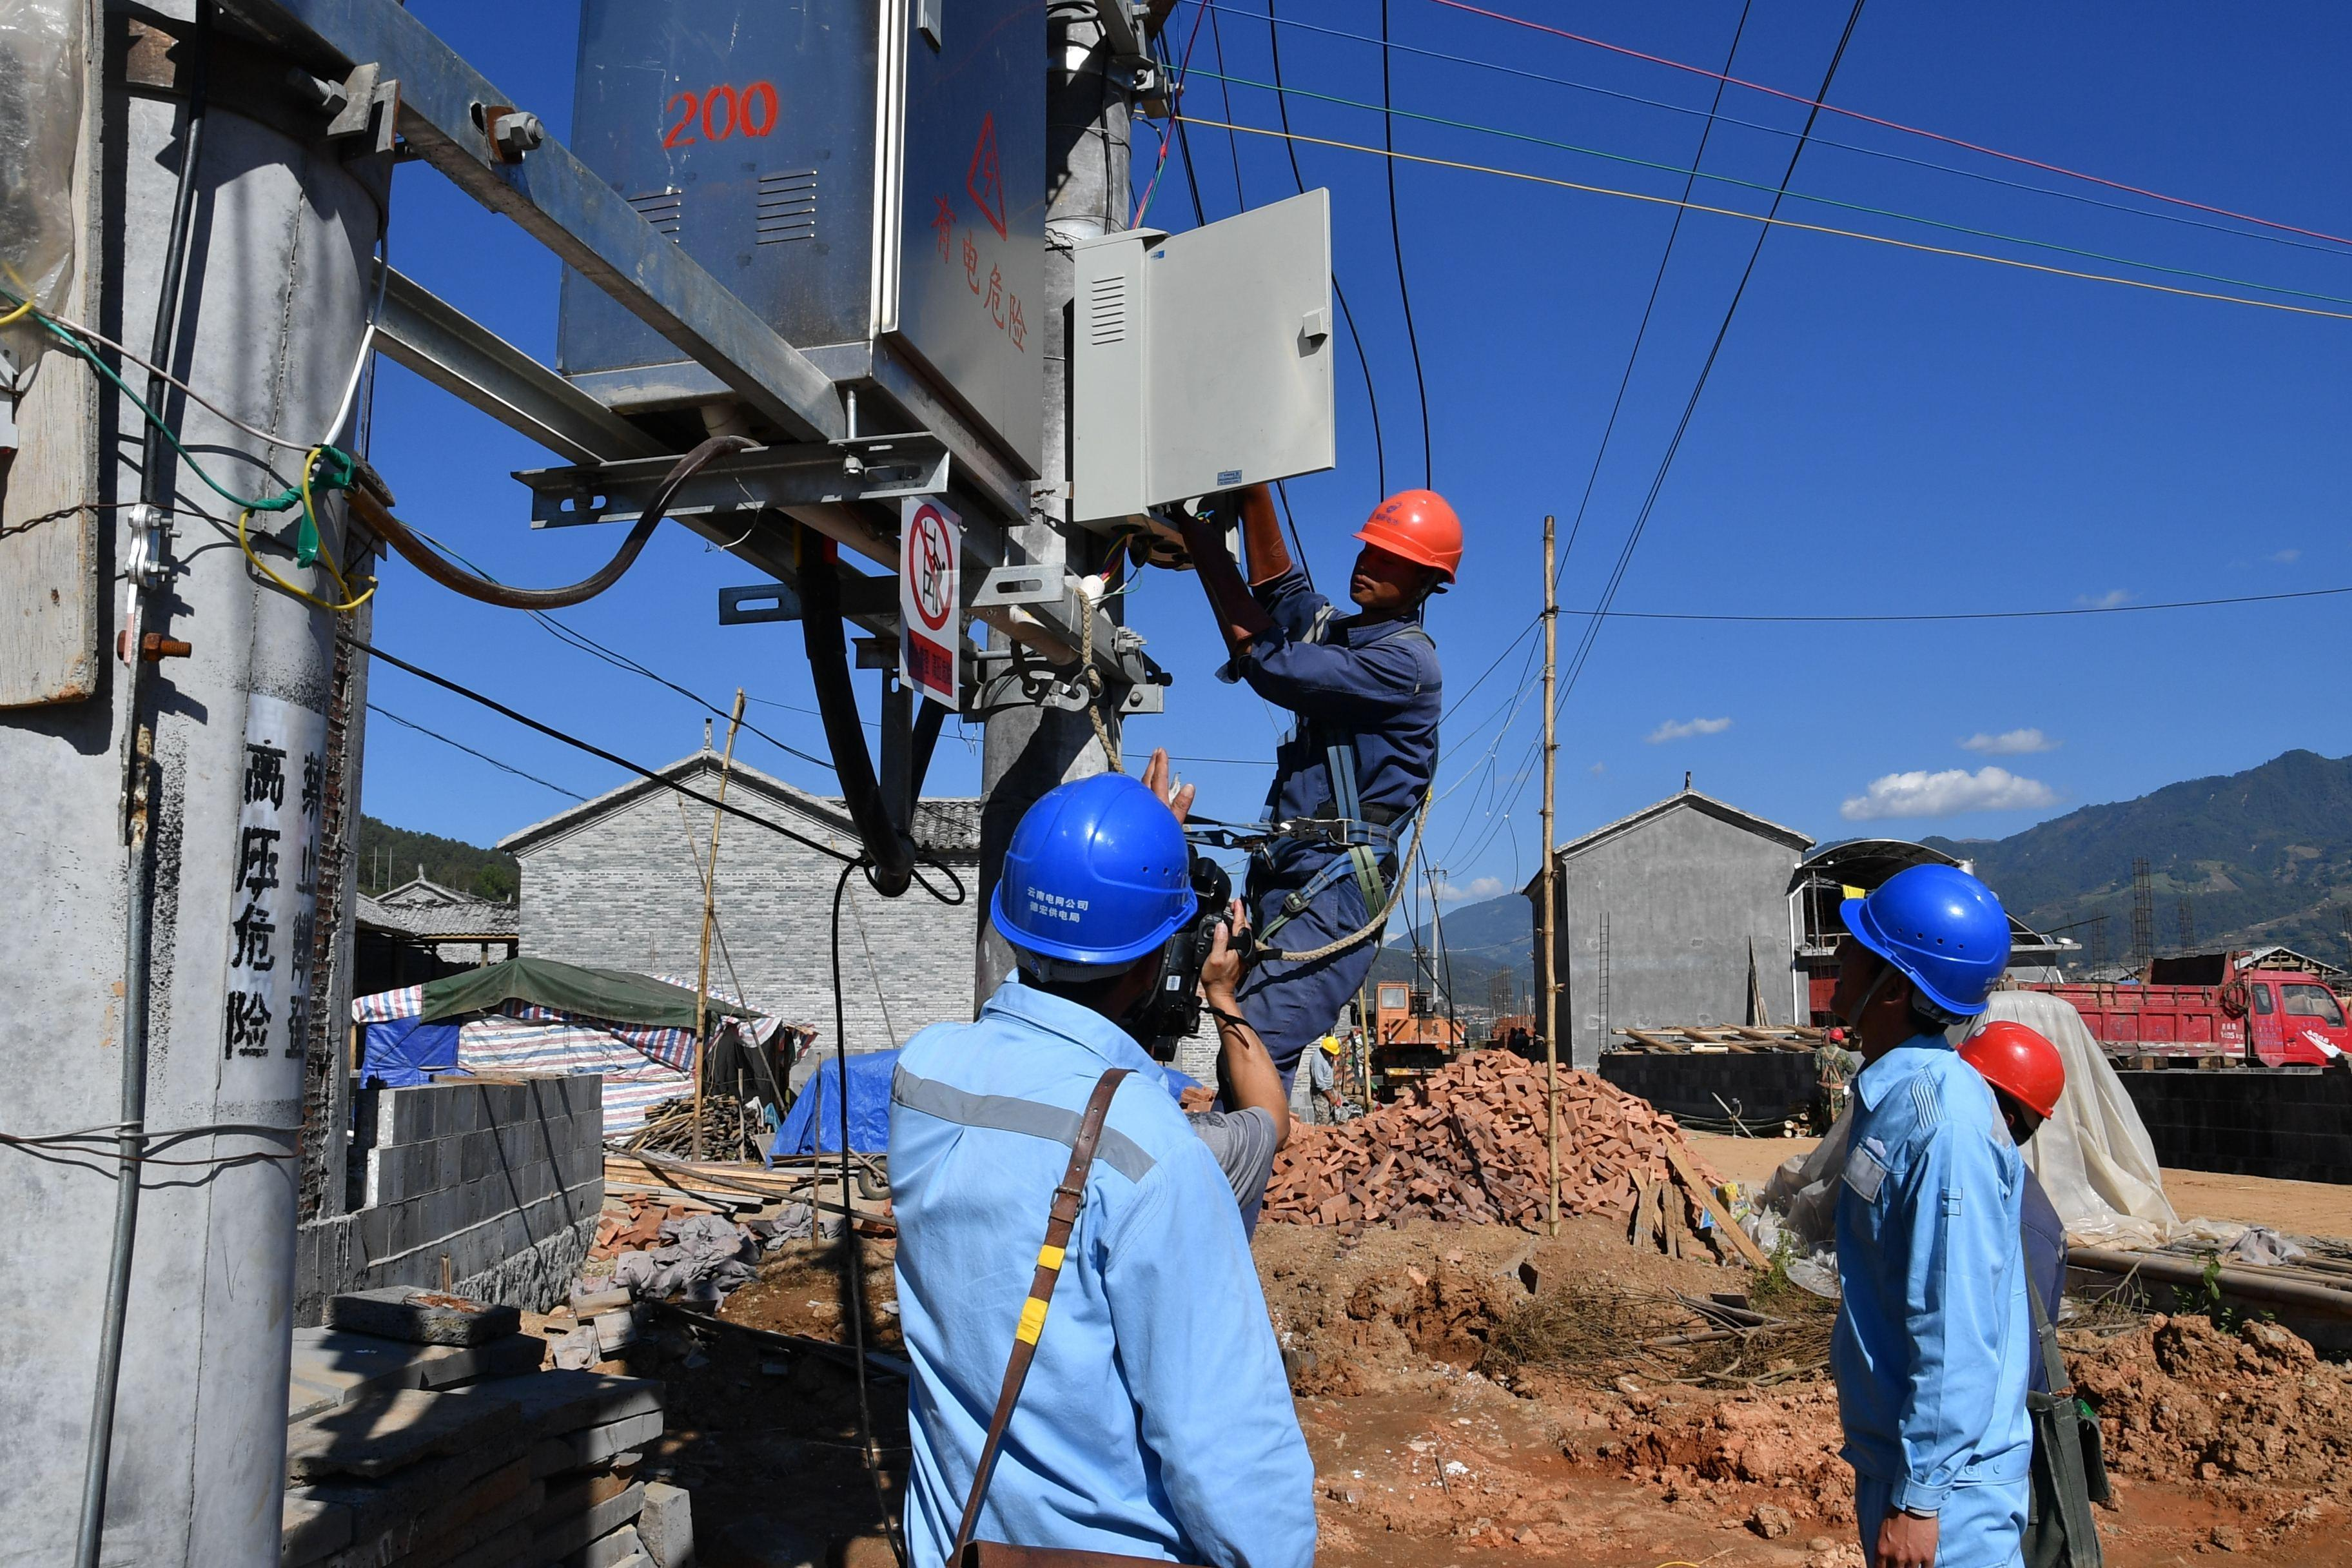helmet: (956, 764, 1224, 996), (1827, 857, 2017, 1025), (1343, 467, 1476, 590)
no-vest: (885, 999, 1321, 1538), (1817, 1083, 2059, 1568), (1282, 616, 1444, 861)
person: (876, 735, 1317, 1568), (1775, 822, 2065, 1568), (1227, 451, 1466, 1090)
